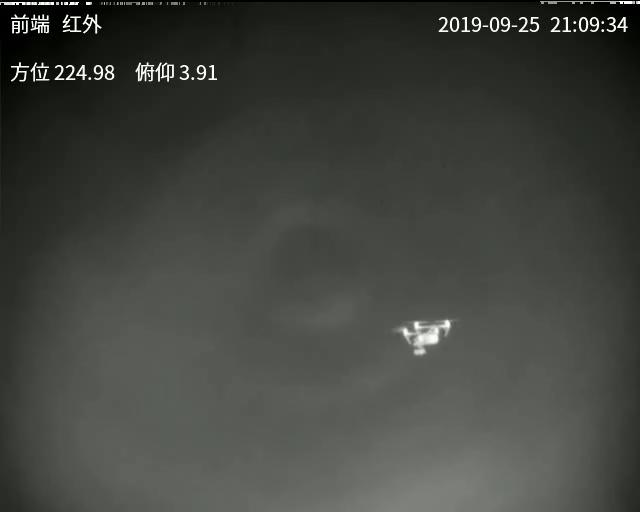uav: (398, 317, 452, 361)
